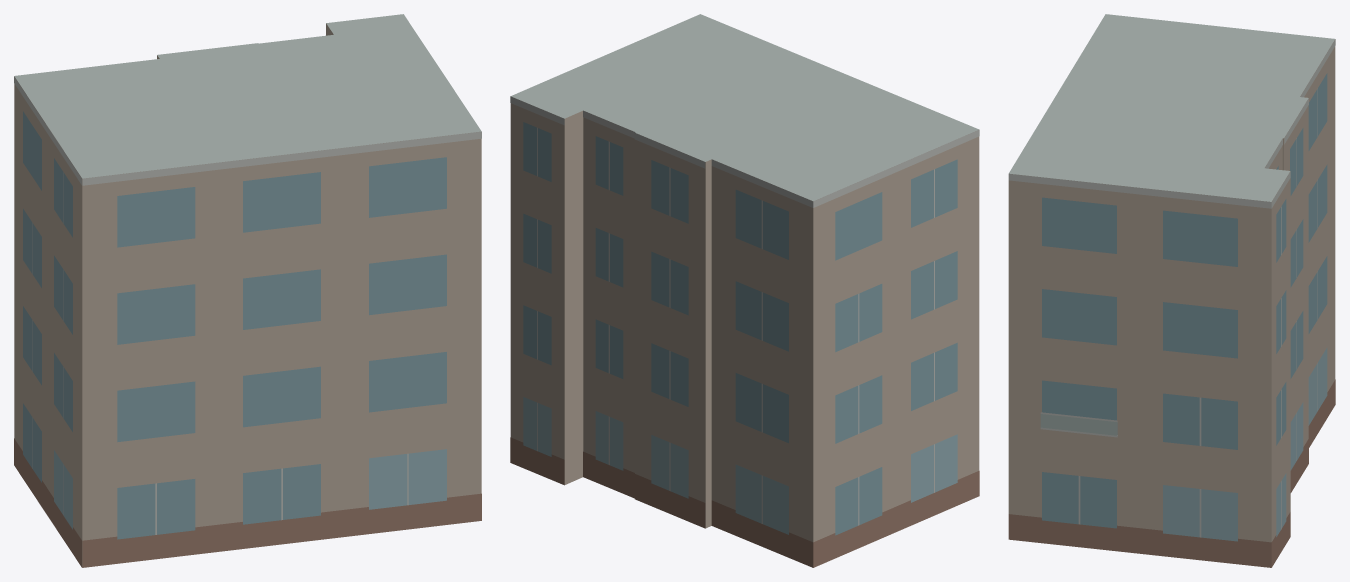
Rendered from survey-upis-32943033.glb.
3 views of the same model, side by side, from view 1: azimuth 30°, elevation 25°; view 2: azimuth 150°, elevation 25°; view 3: azimuth 270°, elevation 25° (orthographic). The views are drawn at different scales.
Parts seen in each view (by area): view 1: survey-upis-32943033.tmp; view 2: survey-upis-32943033.tmp; view 3: survey-upis-32943033.tmp.
Part boxes in pixels (<box>): survey-upis-32943033.tmp: <box>14,14,481,567</box>; survey-upis-32943033.tmp: <box>510,14,979,567</box>; survey-upis-32943033.tmp: <box>1008,14,1335,567</box>.
Size of the model in its own units: 14.55 by 13.2 by 10.7.
